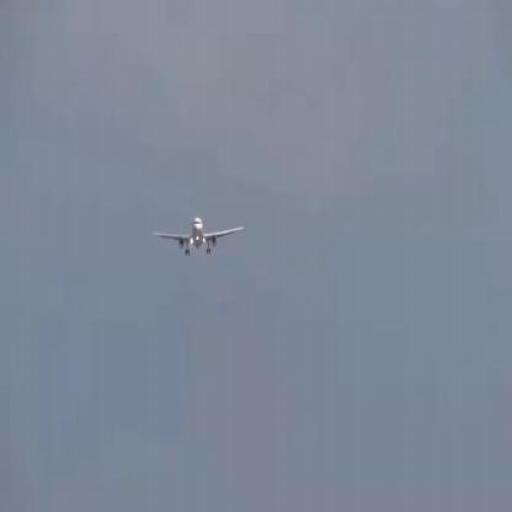aircraft: (152, 217, 244, 257)
